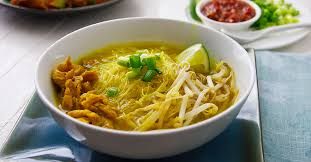soto: (44, 26, 252, 143)
